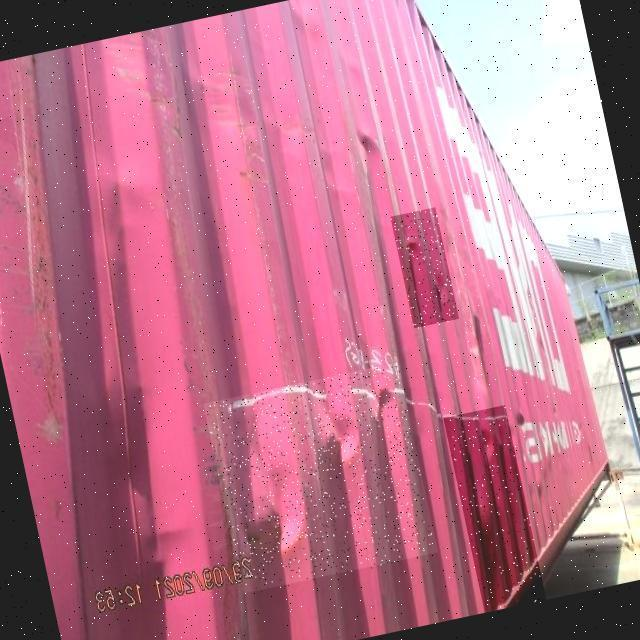dent: (204, 364, 439, 597), (444, 406, 547, 614), (391, 208, 460, 331)
